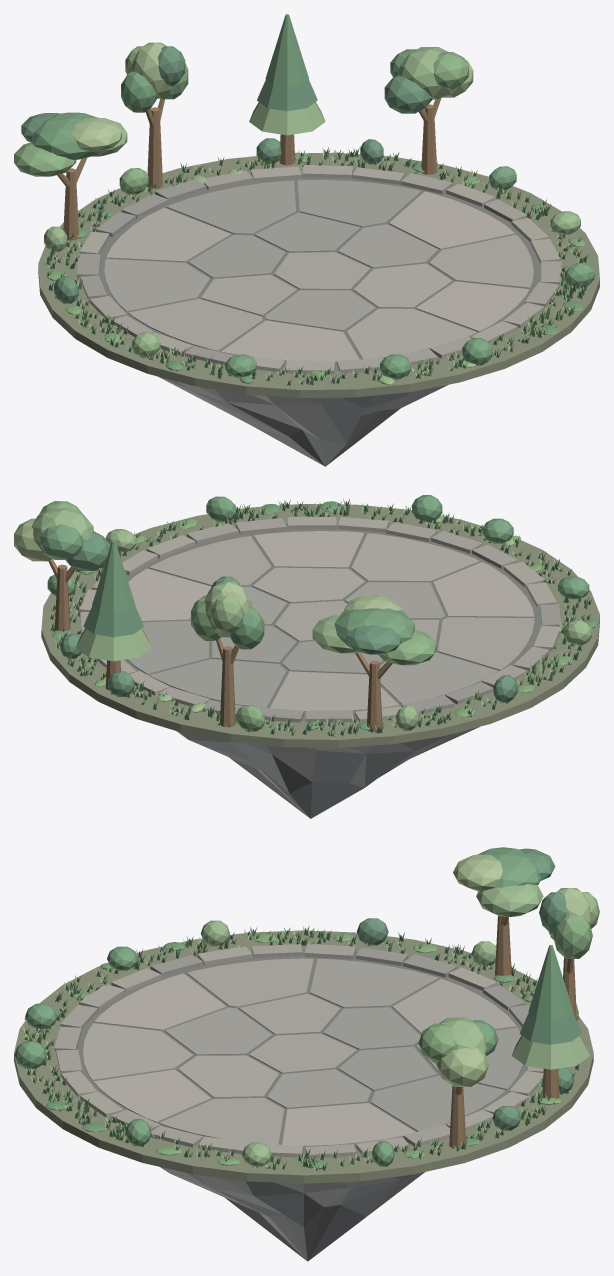
Rendered from fase3_ilha.fbx.
The picture shows the model from 3 angles, top to bottom: view 1: azimuth 30°, elevation 25°; view 2: azimuth 150°, elevation 25°; view 3: azimuth 270°, elevation 25°; orthographic projection. The views are drawn at different scales.
Parts seen in each view (by area): view 1: F3_IP_Canteiro_Anelar, F3_IP_Ilha_RochaInferior, F3_IP_Ilha_Piso, F3_IP_Laje_10, F3_IP_Laje_09, F3_IP_Laje_15, F3_IP_Laje_12, F3_IP_Laje_11, F3_IP_Laje_08, F3_IP_Laje_13, F3_IP_Laje_17, F3_IP_Laje_14 (+43 smaller); view 2: F3_IP_Canteiro_Anelar, F3_IP_Ilha_RochaInferior, F3_IP_Ilha_Piso, F3_IP_Laje_15, F3_IP_Laje_13, F3_IP_Laje_14, F3_IP_Laje_10, F3_IP_Laje_17, F3_IP_Laje_11, F3_IP_Laje_12, F3_IP_Laje_16, F3_IP_Laje_07 (+60 smaller); view 3: F3_IP_Canteiro_Anelar, F3_IP_Ilha_RochaInferior, F3_IP_Ilha_Piso, F3_IP_Laje_15, F3_IP_Laje_12, F3_IP_Laje_08, F3_IP_Laje_13, F3_IP_Laje_14, F3_IP_Laje_17, F3_IP_Laje_09, F3_IP_Laje_16, F3_IP_Laje_11 (+53 smaller).
Part boxes in pixels (bbox=[...]): F3_IP_Canteiro_Anelar: bbox=[38, 152, 599, 398]; F3_IP_Ilha_RochaInferior: bbox=[158, 376, 448, 466]; F3_IP_Ilha_Piso: bbox=[99, 172, 541, 370]; F3_IP_Laje_10: bbox=[166, 180, 295, 234]; F3_IP_Laje_09: bbox=[297, 180, 421, 226]; F3_IP_Laje_15: bbox=[346, 308, 476, 359]; F3_IP_Laje_12: bbox=[104, 259, 210, 311]; F3_IP_Laje_11: bbox=[106, 207, 231, 262]; F3_IP_Laje_08: bbox=[389, 191, 515, 249]; F3_IP_Laje_13: bbox=[128, 299, 262, 351]; F3_IP_Laje_17: bbox=[429, 234, 533, 288]; F3_IP_Laje_14: bbox=[221, 320, 359, 361]; F3_IP_Canteiro_Anelar: bbox=[41, 504, 599, 747]; F3_IP_Ilha_RochaInferior: bbox=[176, 726, 479, 818]; F3_IP_Ilha_Piso: bbox=[124, 523, 541, 720]; F3_IP_Laje_15: bbox=[351, 533, 479, 581]; F3_IP_Laje_13: bbox=[437, 617, 534, 670]; F3_IP_Laje_14: bbox=[433, 562, 534, 617]; F3_IP_Laje_10: bbox=[149, 659, 286, 707]; F3_IP_Laje_17: bbox=[149, 536, 271, 586]; F3_IP_Laje_11: bbox=[270, 671, 399, 711]; F3_IP_Laje_12: bbox=[379, 652, 498, 704]; F3_IP_Laje_16: bbox=[254, 531, 364, 568]; F3_IP_Laje_07: bbox=[252, 567, 364, 602]; F3_IP_Canteiro_Anelar: bbox=[14, 930, 593, 1183]; F3_IP_Ilha_RochaInferior: bbox=[160, 1167, 424, 1261]; F3_IP_Ilha_Piso: bbox=[76, 949, 528, 1155]; F3_IP_Laje_15: bbox=[83, 1023, 193, 1080]; F3_IP_Laje_12: bbox=[310, 958, 438, 1007]; F3_IP_Laje_08: bbox=[282, 1103, 415, 1146]; F3_IP_Laje_13: bbox=[187, 958, 313, 1007]; F3_IP_Laje_14: bbox=[94, 973, 226, 1030]; F3_IP_Laje_17: bbox=[159, 1097, 284, 1144]; F3_IP_Laje_09: bbox=[371, 1075, 505, 1131]; F3_IP_Laje_16: bbox=[93, 1069, 211, 1122]; F3_IP_Laje_11: bbox=[392, 978, 516, 1033].
Size of the model in its own units: 1490 by 1010 by 1506.
